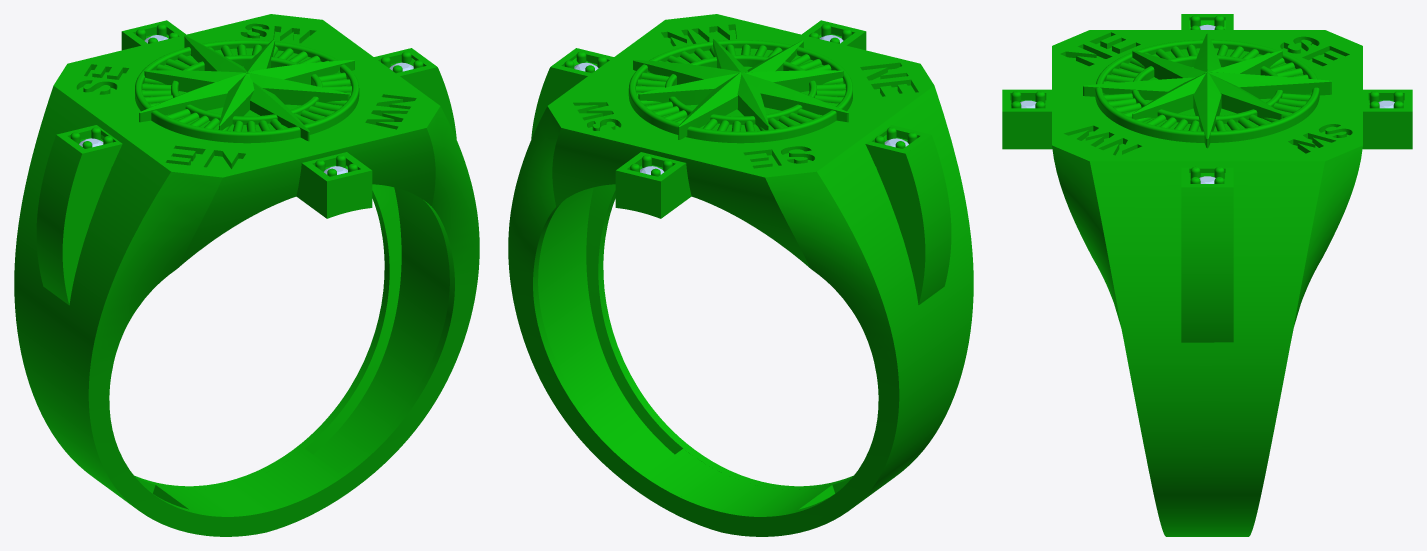
The picture shows the model from 3 angles, left to right: view 1: azimuth 30°, elevation 25°; view 2: azimuth 150°, elevation 25°; view 3: azimuth 270°, elevation 25°; orthographic projection.
Visible parts, largest first — view 1: 89 Anillo Hombre Brujula.3dm; view 2: 89 Anillo Hombre Brujula.3dm; view 3: 89 Anillo Hombre Brujula.3dm.
Boxes of the visible parts, bbox=[...] form: 89 Anillo Hombre Brujula.3dm: bbox=[14, 14, 479, 536]; 89 Anillo Hombre Brujula.3dm: bbox=[508, 14, 973, 536]; 89 Anillo Hombre Brujula.3dm: bbox=[1002, 14, 1412, 536].
Bounding box in the file's own units: 2.32 × 2.51 × 2.09.
